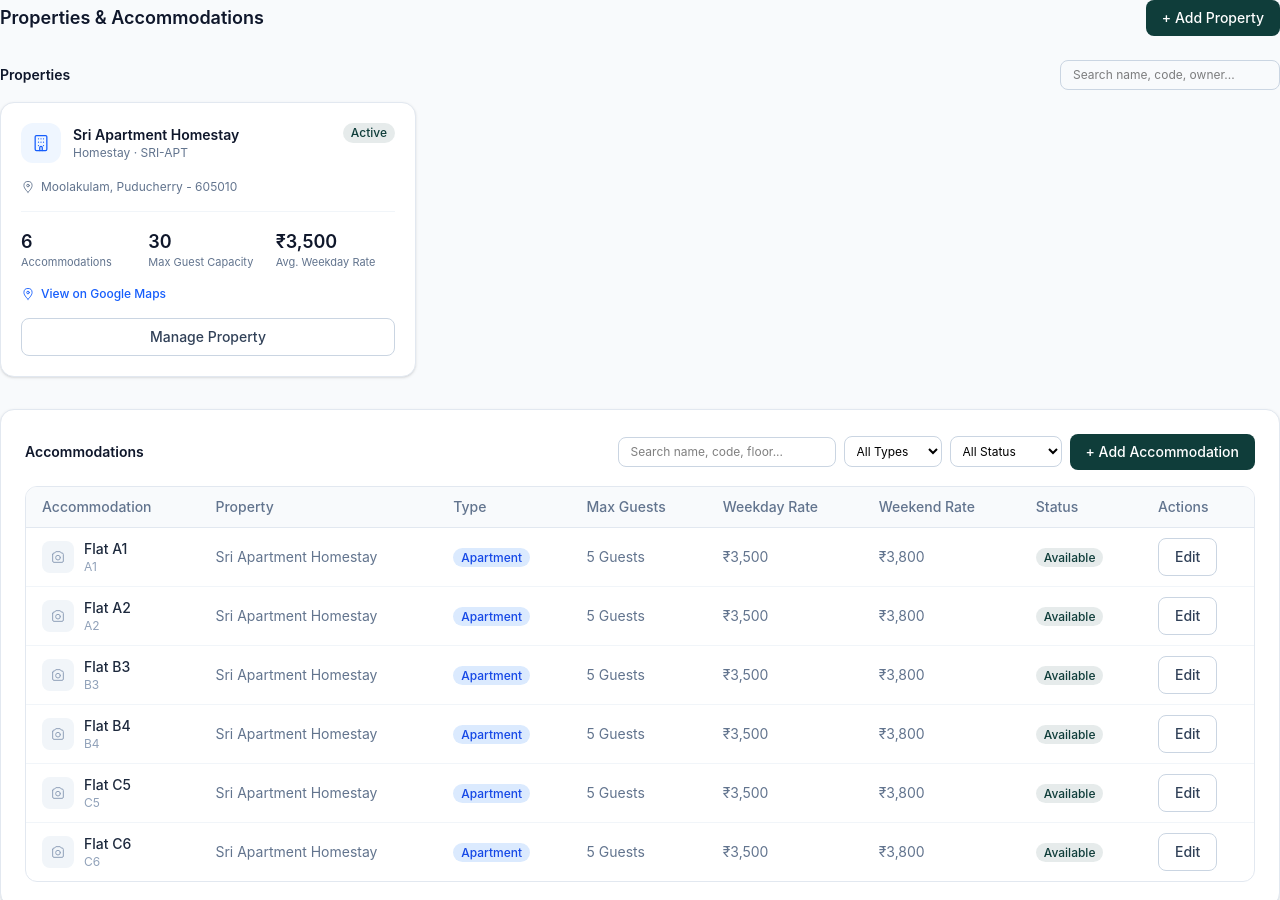
Test: PropertiesPage — UI polish › + Add Property still opens the add-property drawer
The width and height of the screenshot is (1280, 900).
Check: the text "Flat A1" is shown, box [84,539,127,559]
Click the button "+ Add Property" at coordinates (1213, 18), box [1146,0,1279,36]
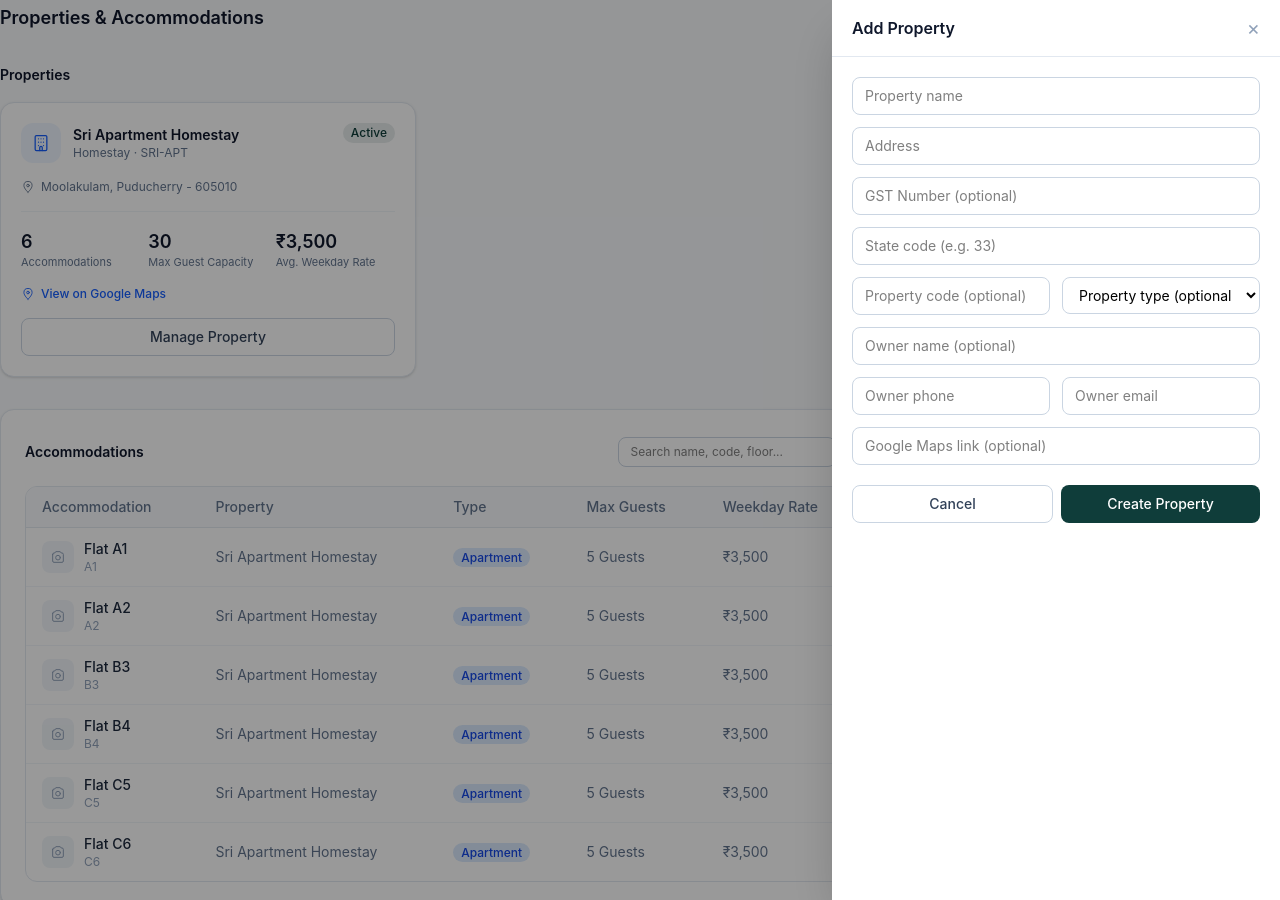
Check: the heading "Add Property" is shown, box [852,16,955,40]
